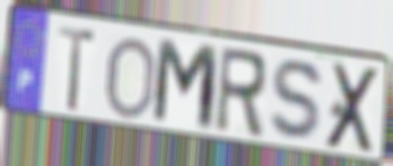M: (150, 35, 222, 137)
O: (102, 34, 159, 123)
R: (211, 44, 269, 143)
S: (266, 56, 328, 146)
T: (55, 23, 99, 116)
X: (322, 62, 384, 156)
